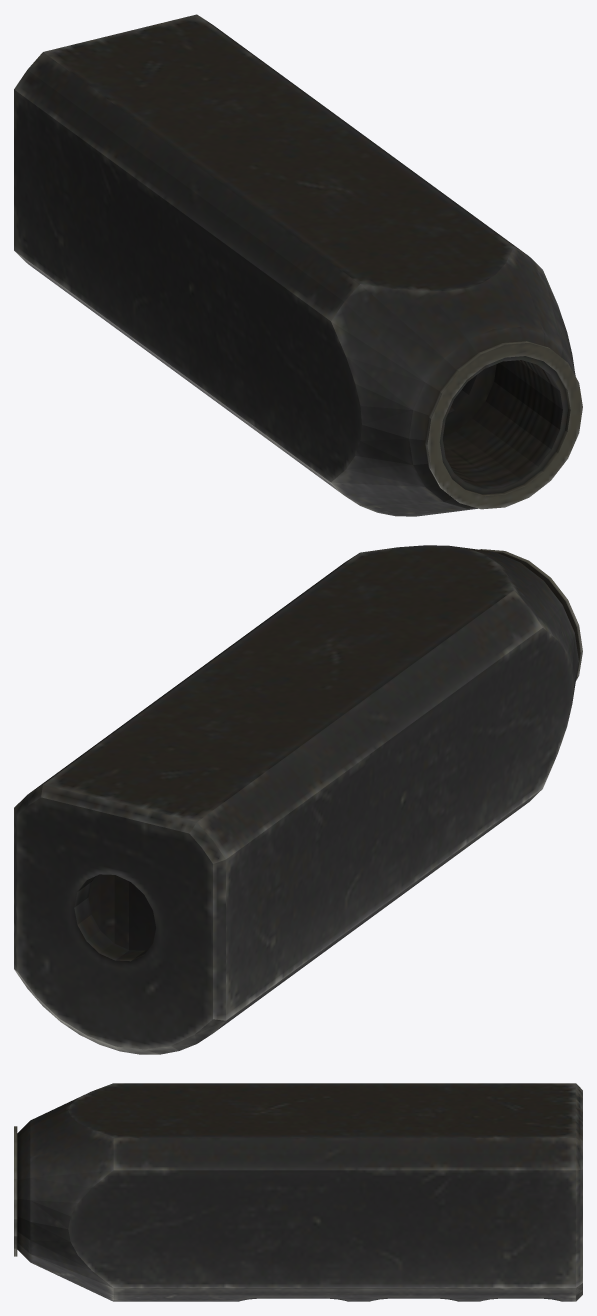
The picture shows the model from 3 angles, top to bottom: view 1: azimuth 30°, elevation 25°; view 2: azimuth 150°, elevation 25°; view 3: azimuth 270°, elevation 25°; orthographic projection. The views are drawn at different scales.
Parts seen in each view (by area): view 1: TW_60337f5dce399e10262255d1_PZ_Import; view 2: TW_60337f5dce399e10262255d1_PZ_Import; view 3: TW_60337f5dce399e10262255d1_PZ_Import.
Boxes of the visible parts, bbox=[...] form: TW_60337f5dce399e10262255d1_PZ_Import: bbox=[14, 14, 582, 516]; TW_60337f5dce399e10262255d1_PZ_Import: bbox=[14, 545, 582, 1054]; TW_60337f5dce399e10262255d1_PZ_Import: bbox=[14, 1083, 582, 1301].
Bounding box in the file's own units: 0.015 × 0.0477 × 0.0167.
1 material, 1 textured.
